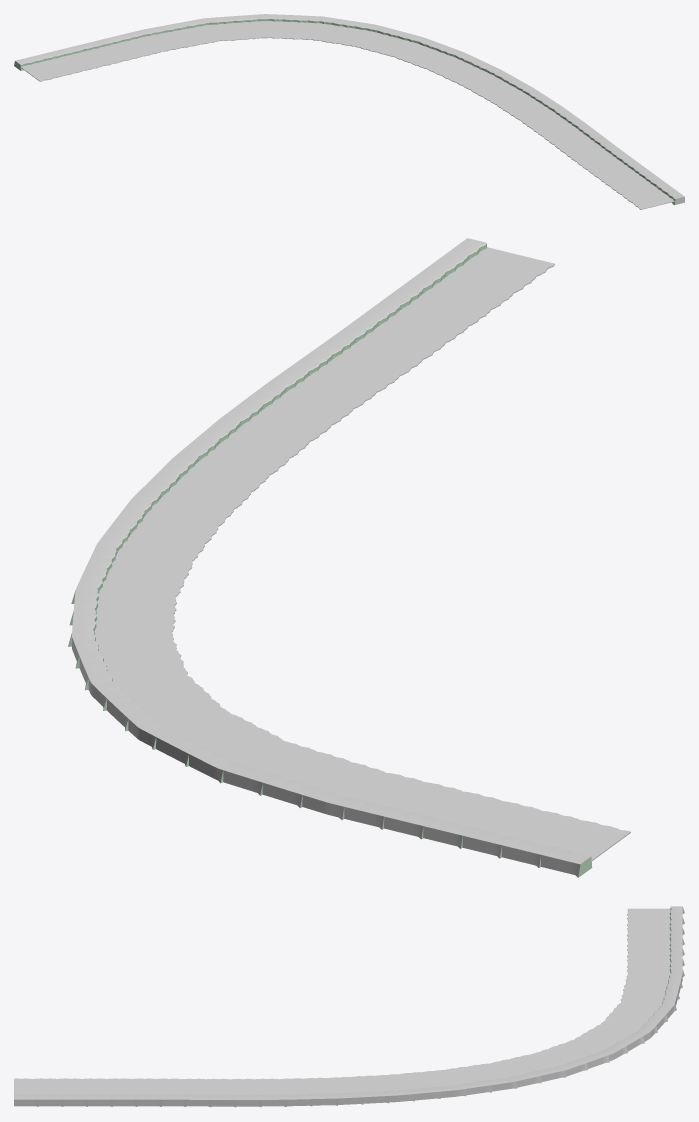
The model's file is LeftCurve(Left_Wall).fbx.
The picture shows the model from 3 angles, top to bottom: view 1: azimuth 30°, elevation 25°; view 2: azimuth 150°, elevation 25°; view 3: azimuth 270°, elevation 25°; orthographic projection. The views are drawn at different scales.
Parts seen in each view (by area): view 1: Cube.011; view 2: Cube.011; view 3: Cube.011.
Part boxes in pixels (<box>): Cube.011: <box>14,14,684,209</box>; Cube.011: <box>68,238,630,877</box>; Cube.011: <box>14,906,684,1107</box>.
Size of the model in its own units: 15398 by 245 by 22438.
